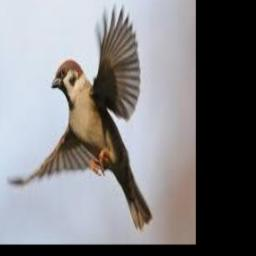Sparrow: (6, 3, 153, 231)
